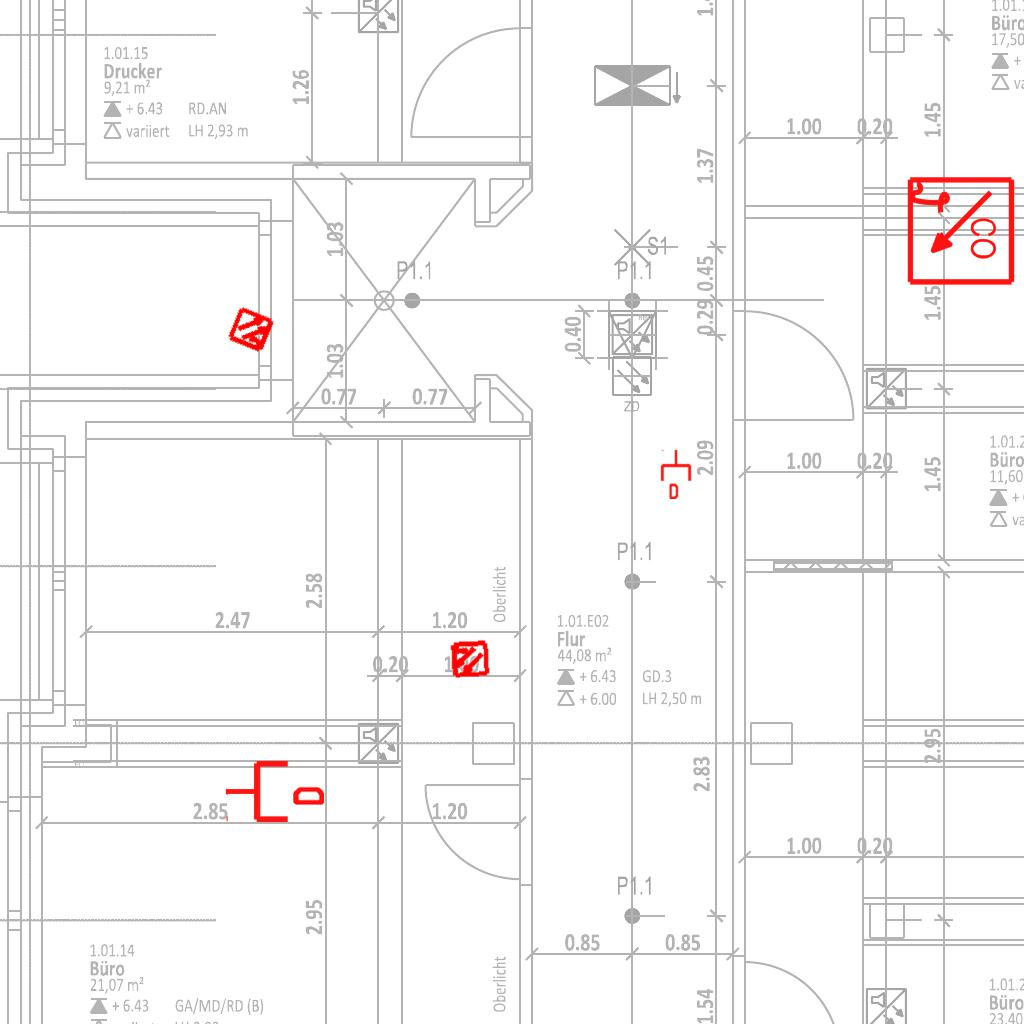Datenanschluss_einfach: (224, 757, 324, 826), (659, 449, 693, 499)
OT_Multisensormelder_(Kombination_RMO_WMD): (215, 293, 289, 367), (439, 629, 499, 689)
ROA_Rauchmelder_optisch_mit_Signalgeber_(Sockelsirene): (903, 175, 1016, 288)
